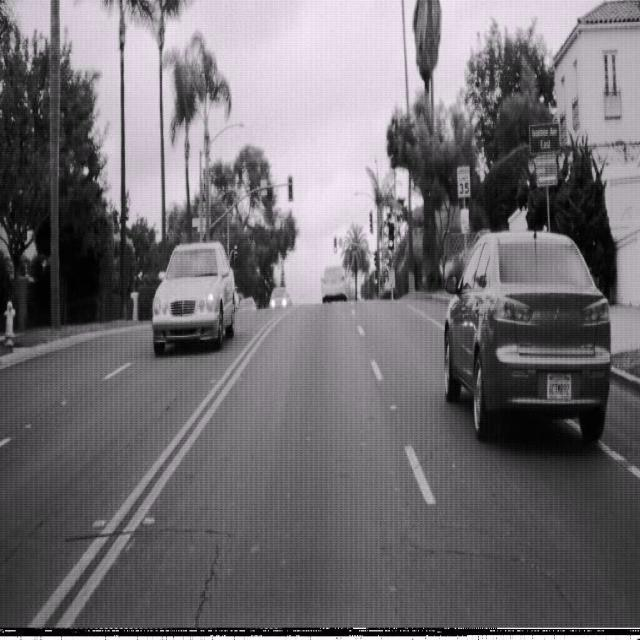speedLimit35: (456, 163, 471, 199)
